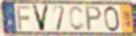7: (53, 5, 65, 32)
C: (68, 5, 86, 32)
F: (15, 5, 32, 32)
O: (103, 5, 121, 33)
P: (85, 5, 104, 32)
V: (31, 4, 51, 32)
